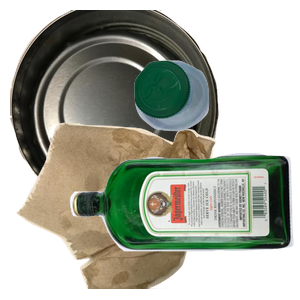glass: (67, 150, 300, 300)
metal: (10, 10, 221, 190)
plastic: (132, 58, 300, 182)
trash: (14, 120, 222, 300)
